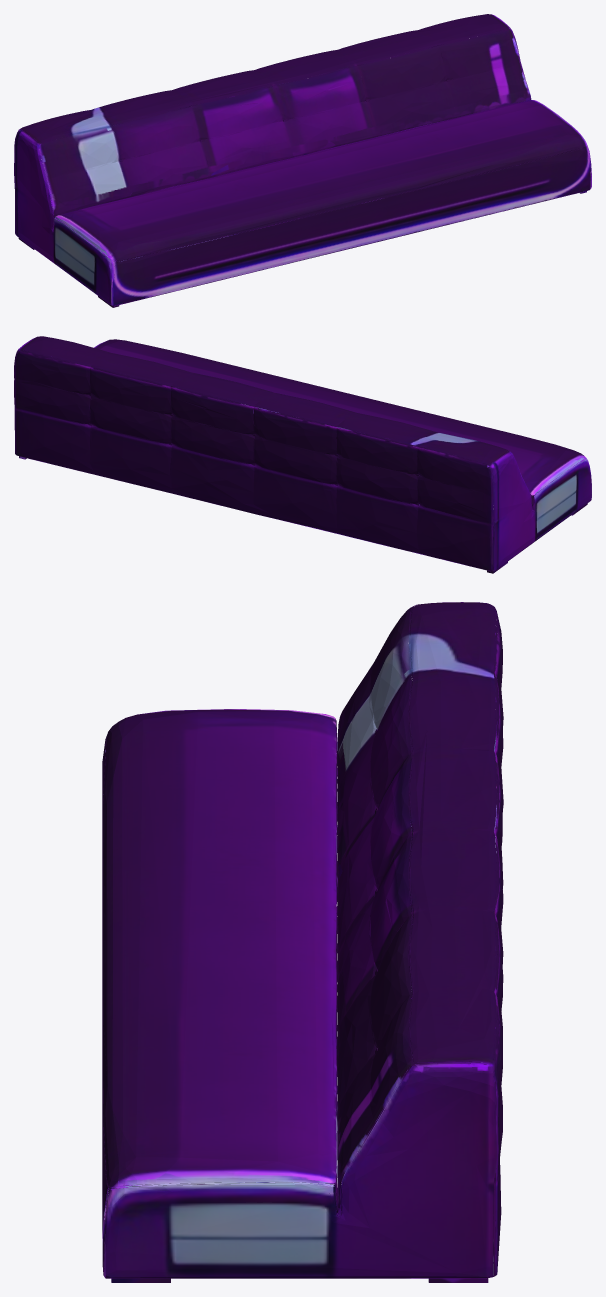
The model's file is edited_mesh.glb.
The picture shows the model from 3 angles, top to bottom: view 1: azimuth 30°, elevation 25°; view 2: azimuth 150°, elevation 25°; view 3: azimuth 270°, elevation 25°; orthographic projection. The views are drawn at different scales.
Parts seen in each view (by area): view 1: solid_001_wire; view 2: solid_001_wire; view 3: solid_001_wire.
Part boxes in pixels (x1,y1,x2,y2): solid_001_wire: (14, 14, 591, 307); solid_001_wire: (14, 336, 591, 573); solid_001_wire: (102, 602, 503, 1282).
Size of the model in its own units: 2 by 0.4446 by 0.7213.
1 material, 1 textured.
